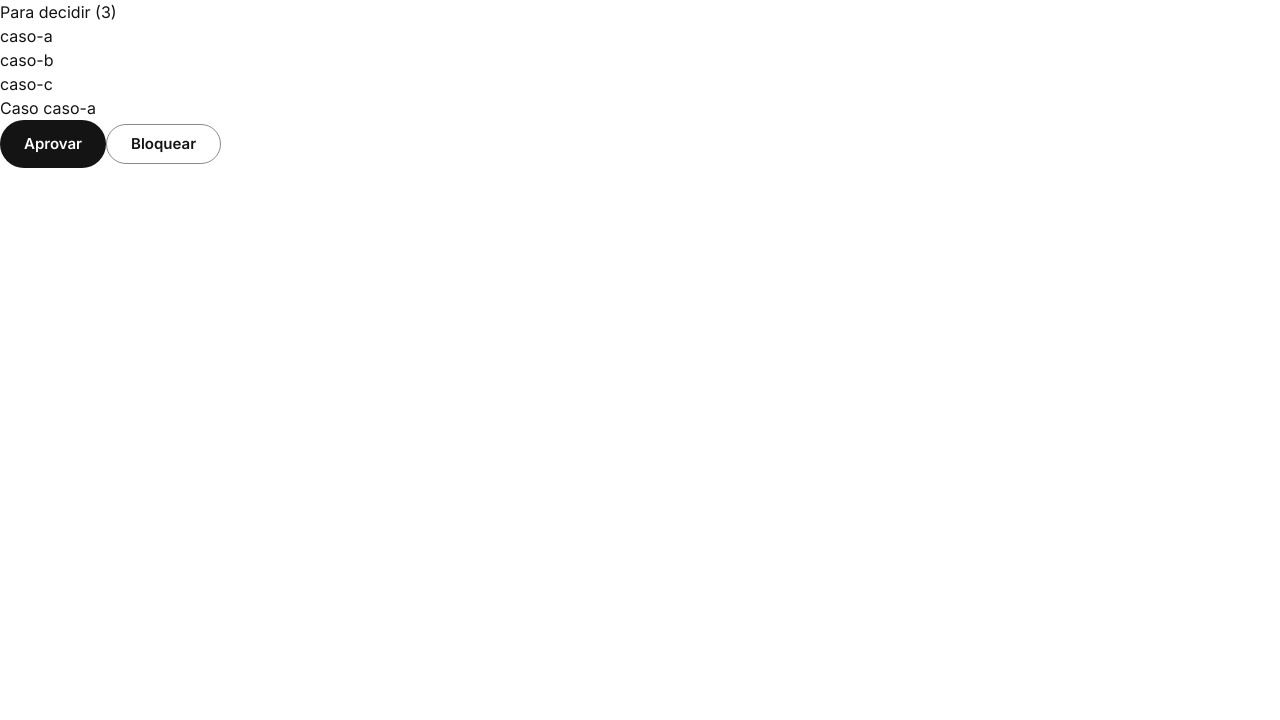
Test: Bloquear dialog (T107; AC 38; D10; F5, F6, F7) › without a webhook: block.lead.nowebhook
Click the button "Bloquear" at (164, 144), box left=106, top=124, right=221, bottom=164
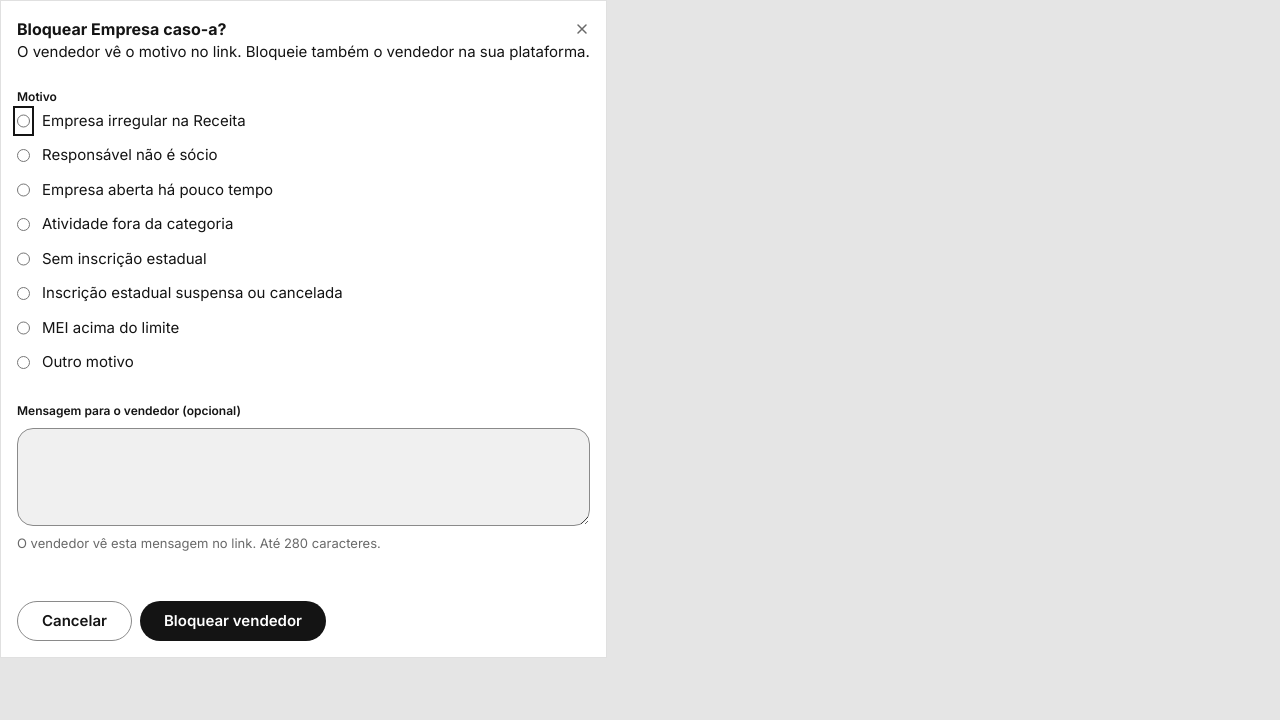
Expected: the text "O vendedor vê o motivo no link. Bloqueie também o vendedor na sua plataforma." is shown, left=17, top=41, right=590, bottom=64
